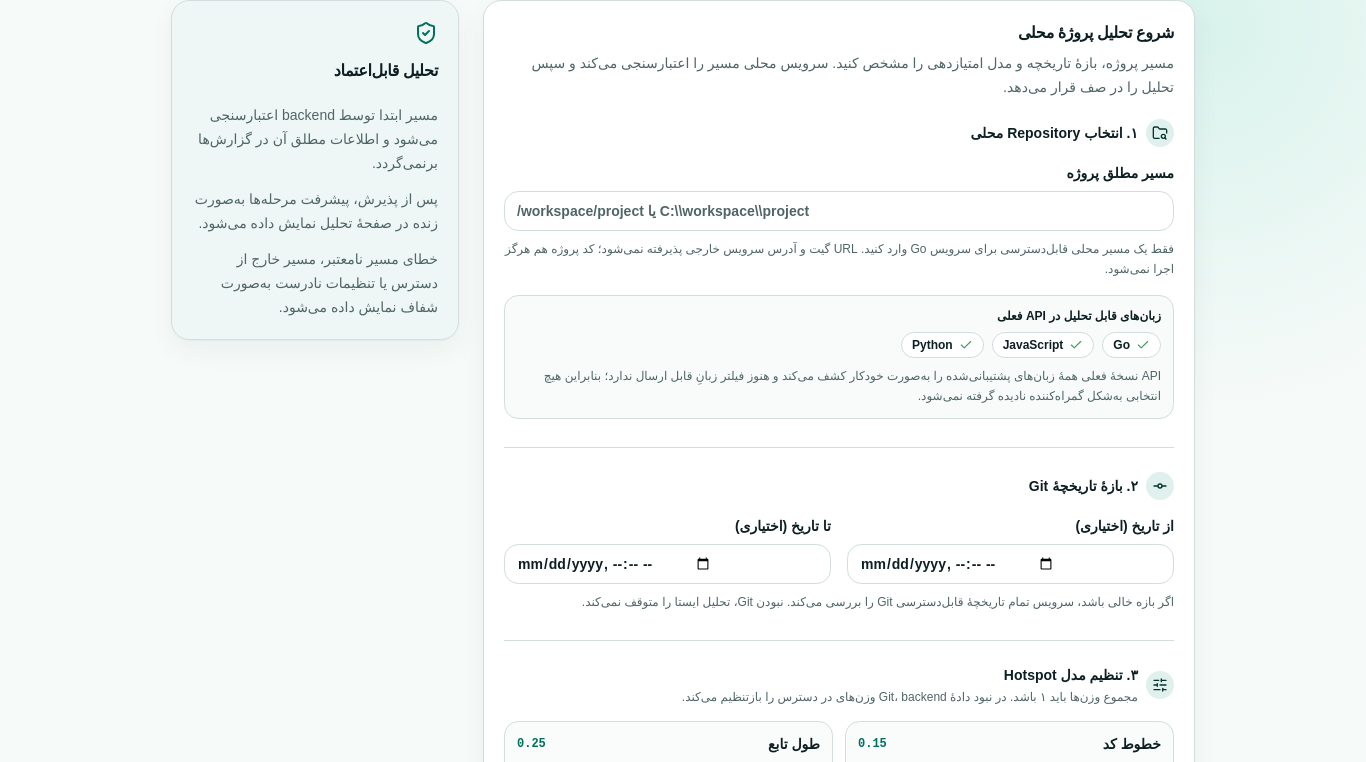
Test: analysis start integration › shows an actionable local-service connection error when the backend is unavailable
Type "/workspace/project" into the field labelled "مسیر مطلق پروژه" at (839, 211), box [504, 191, 1174, 231]
(page scrolled)
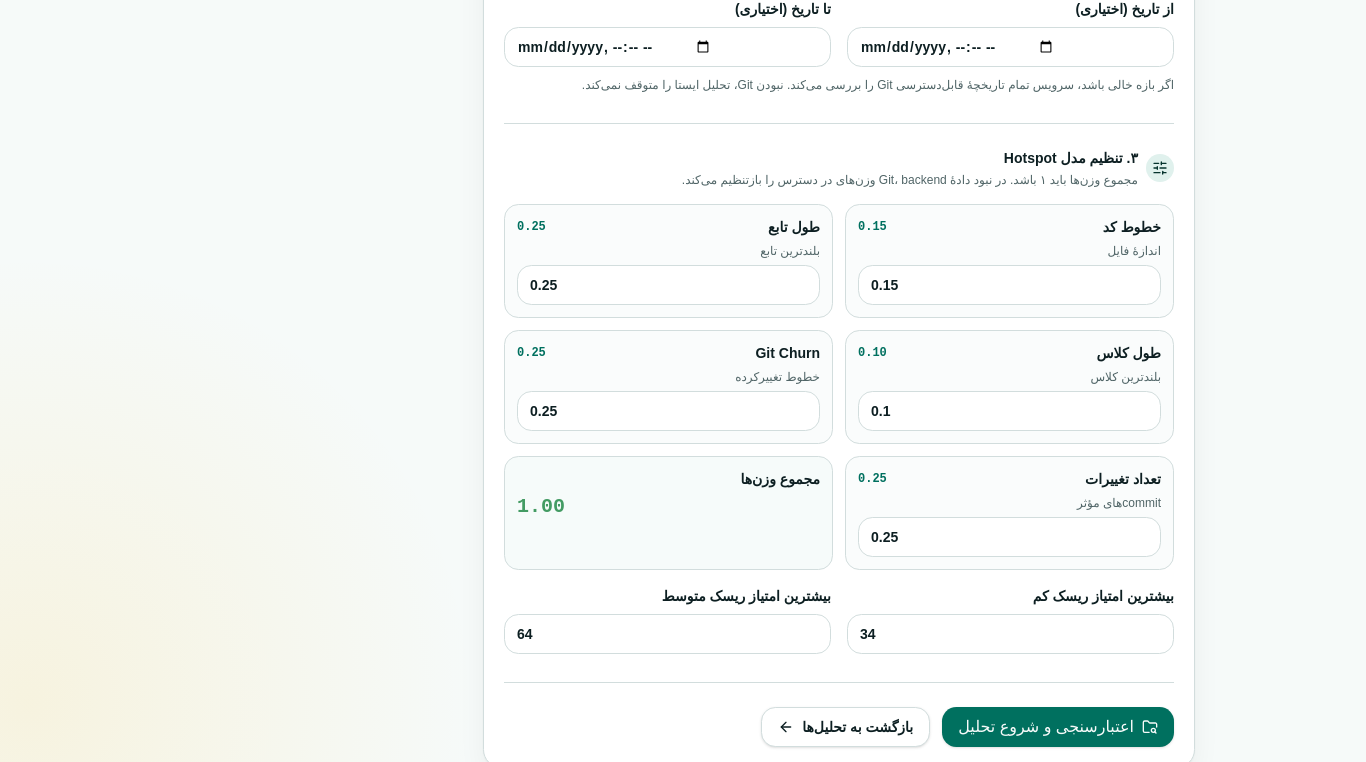
Click the button "اعتبارسنجی و شروع تحلیل" at (1058, 727), box [942, 707, 1174, 747]
(page scrolled)
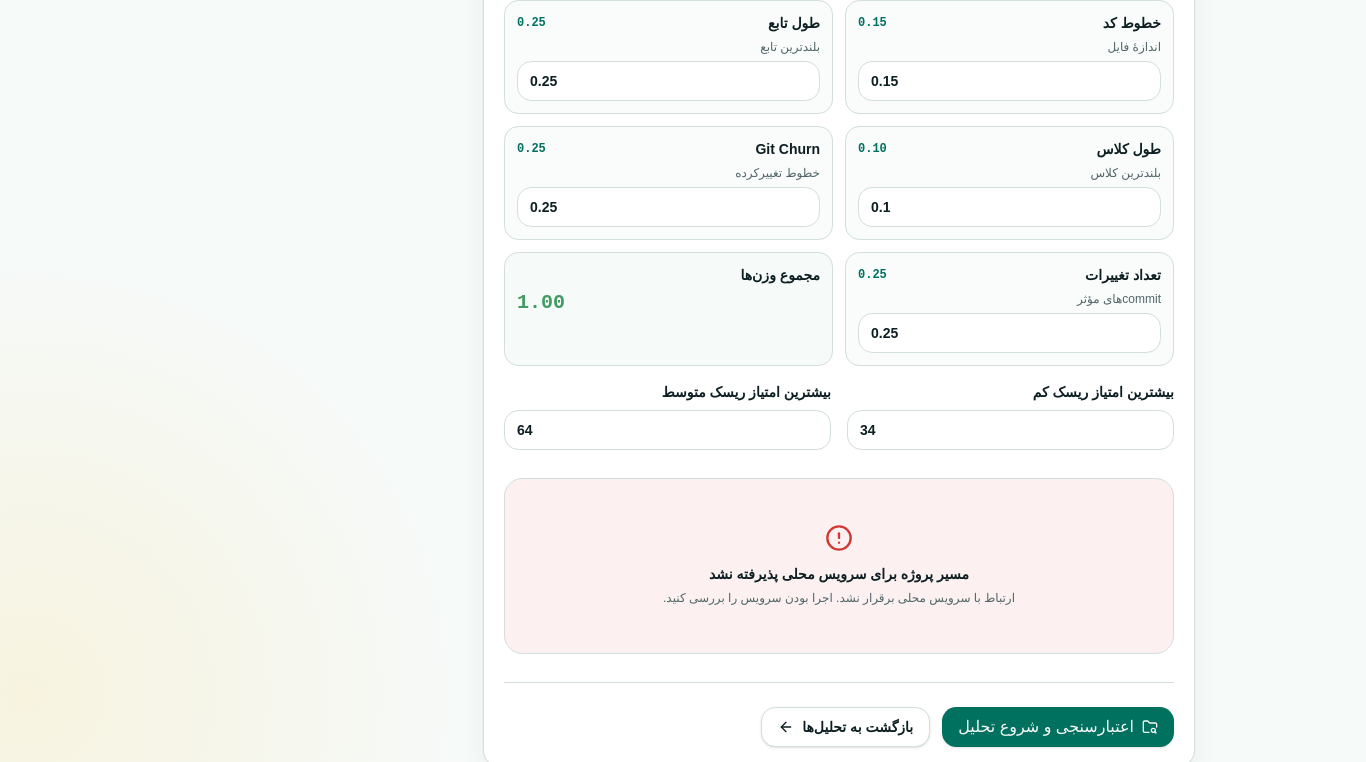
Now the text "ارتباط با سرویس محلی برقرار نشد. اجرا بودن سرویس را بررسی کنید." is shown, box [663, 588, 1015, 608]
